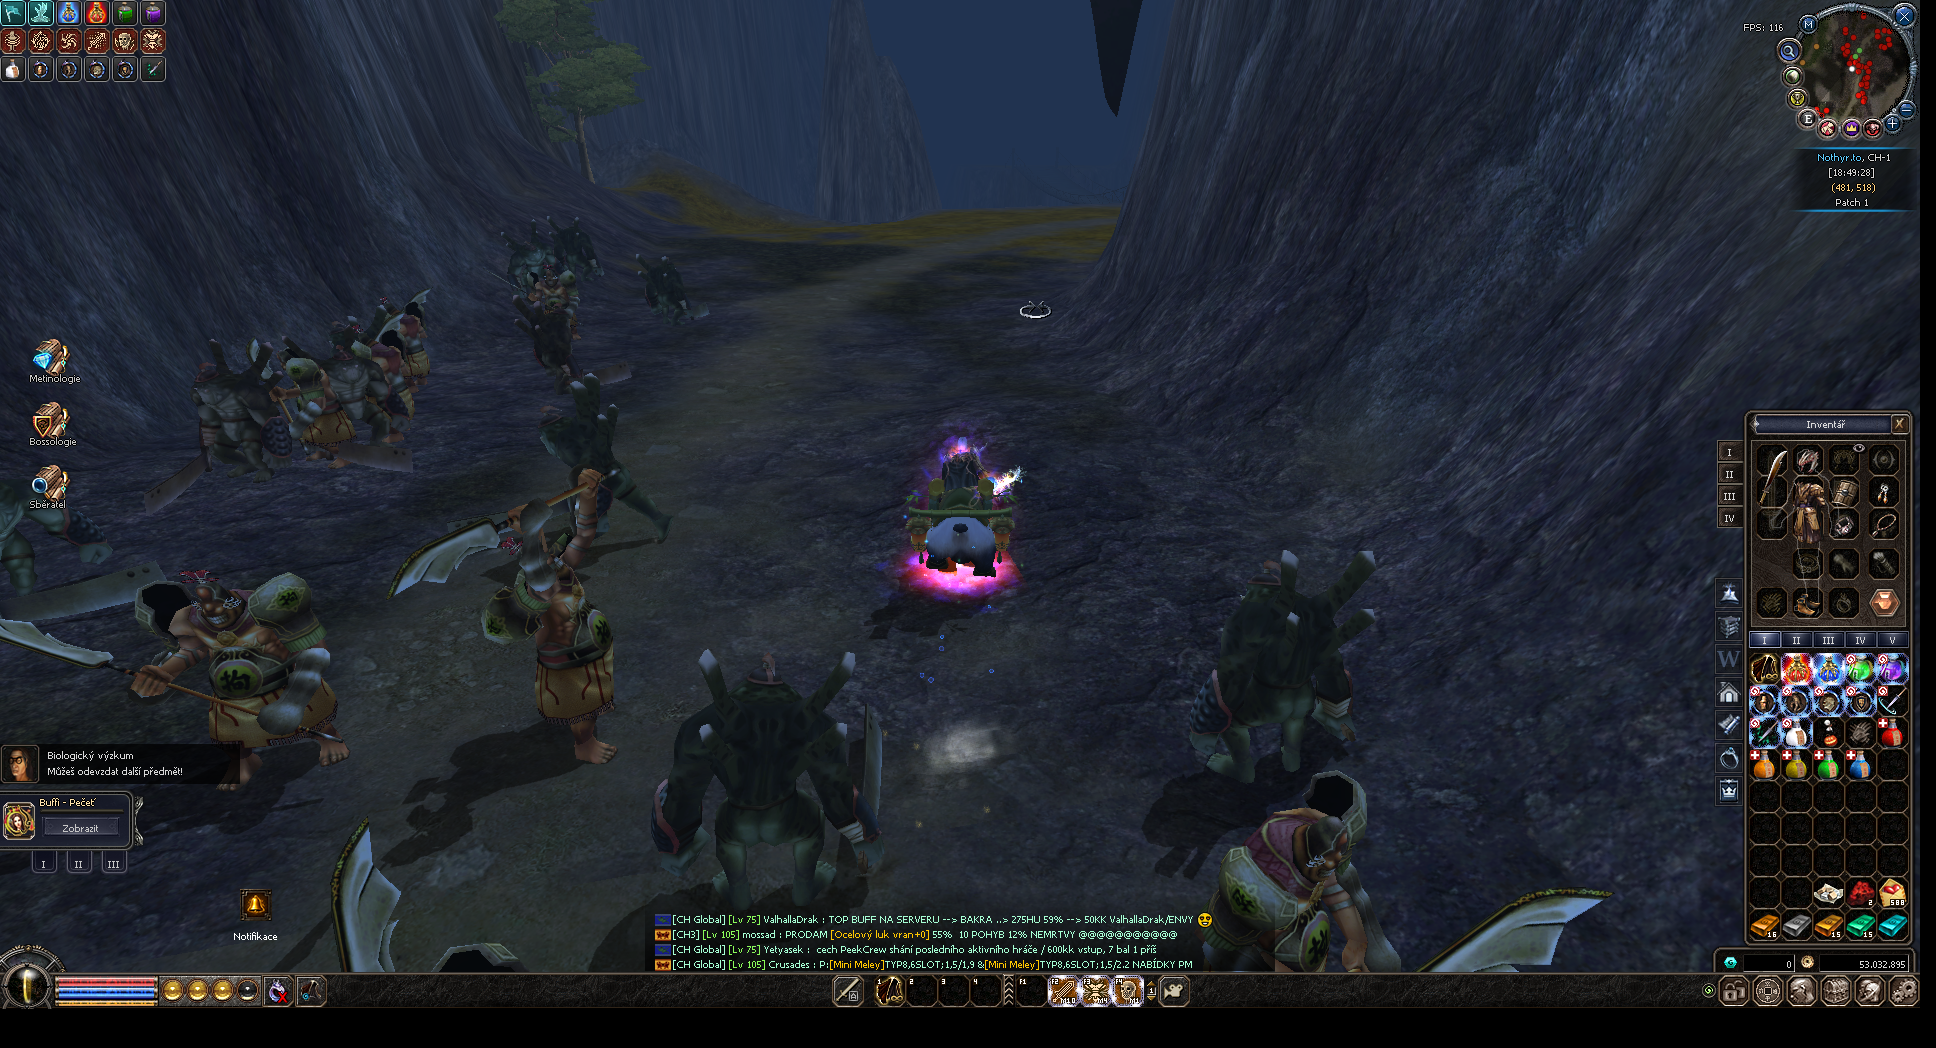Enemy: (1202, 772, 1611, 973), (652, 650, 884, 911), (130, 570, 348, 789), (265, 820, 529, 995), (1189, 551, 1376, 783), (1202, 772, 1400, 972), (481, 469, 616, 764), (539, 376, 672, 542), (285, 317, 410, 443), (283, 321, 408, 443), (191, 339, 293, 481), (0, 481, 114, 596), (271, 355, 356, 469), (352, 298, 416, 441), (499, 216, 603, 293), (512, 296, 580, 394), (373, 289, 430, 392), (365, 339, 416, 441), (499, 219, 559, 293), (534, 216, 603, 277), (635, 256, 694, 325), (1788, 479, 1847, 547), (527, 267, 582, 339)
Me: (900, 440, 1025, 579)
